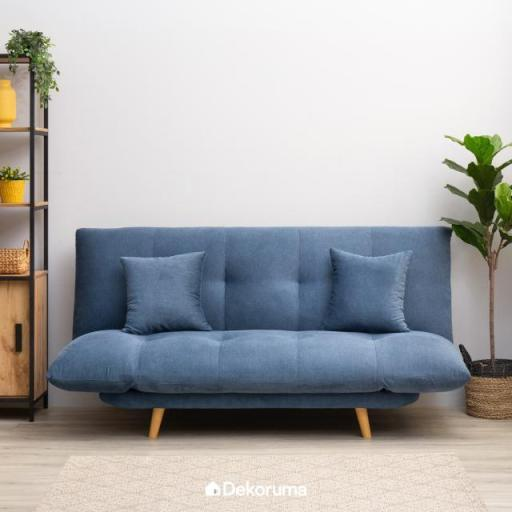sofa: (60, 191, 512, 452)
